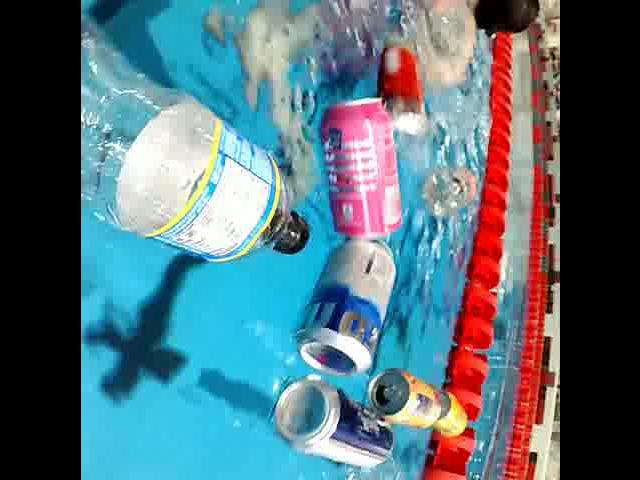Bottle: (80, 14, 315, 267), (416, 166, 480, 218)
Can: (292, 238, 398, 374), (315, 94, 409, 240), (266, 374, 396, 472), (370, 26, 434, 154), (368, 364, 440, 434), (430, 390, 468, 440)
